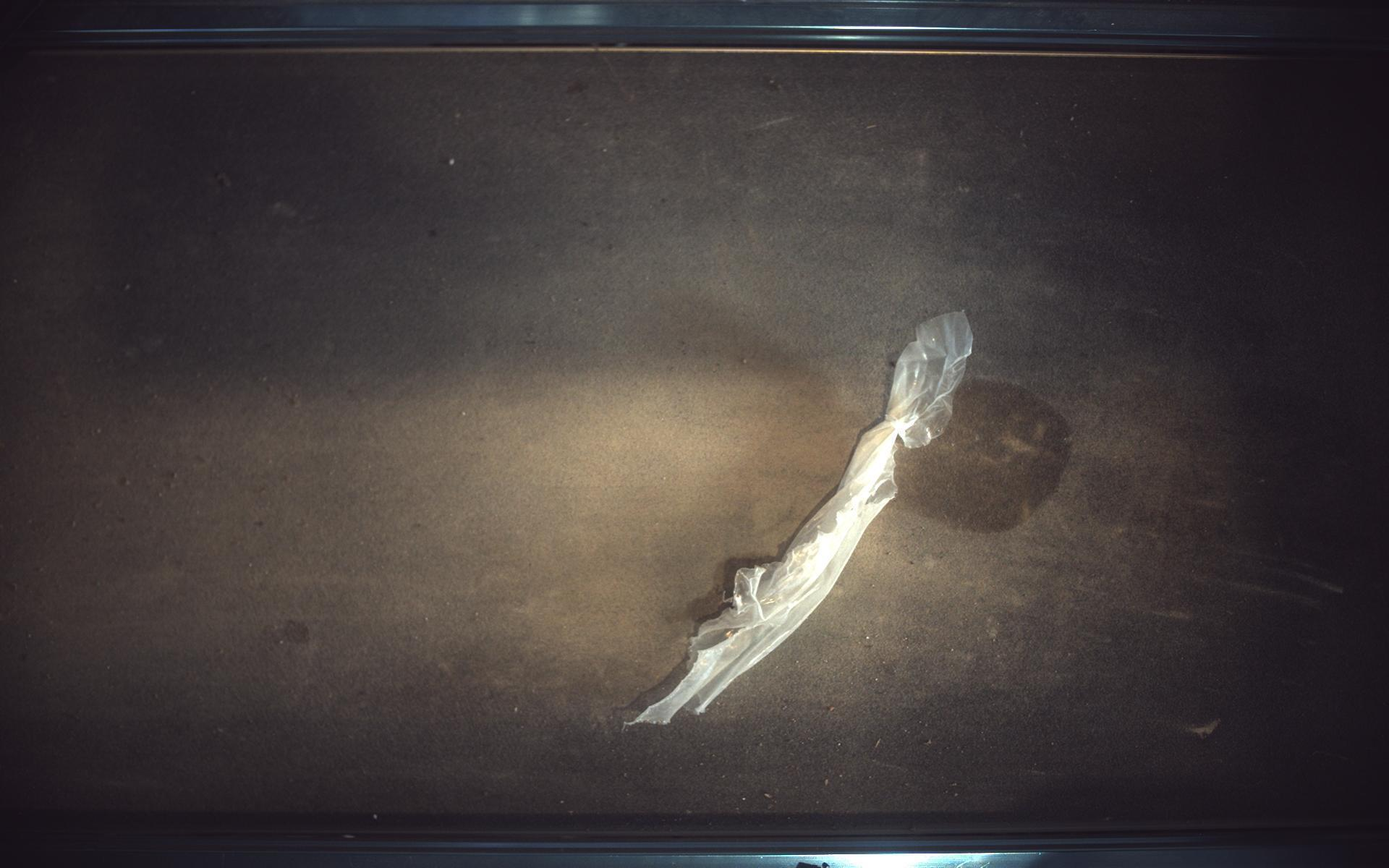general_w: (627, 311, 974, 726)
